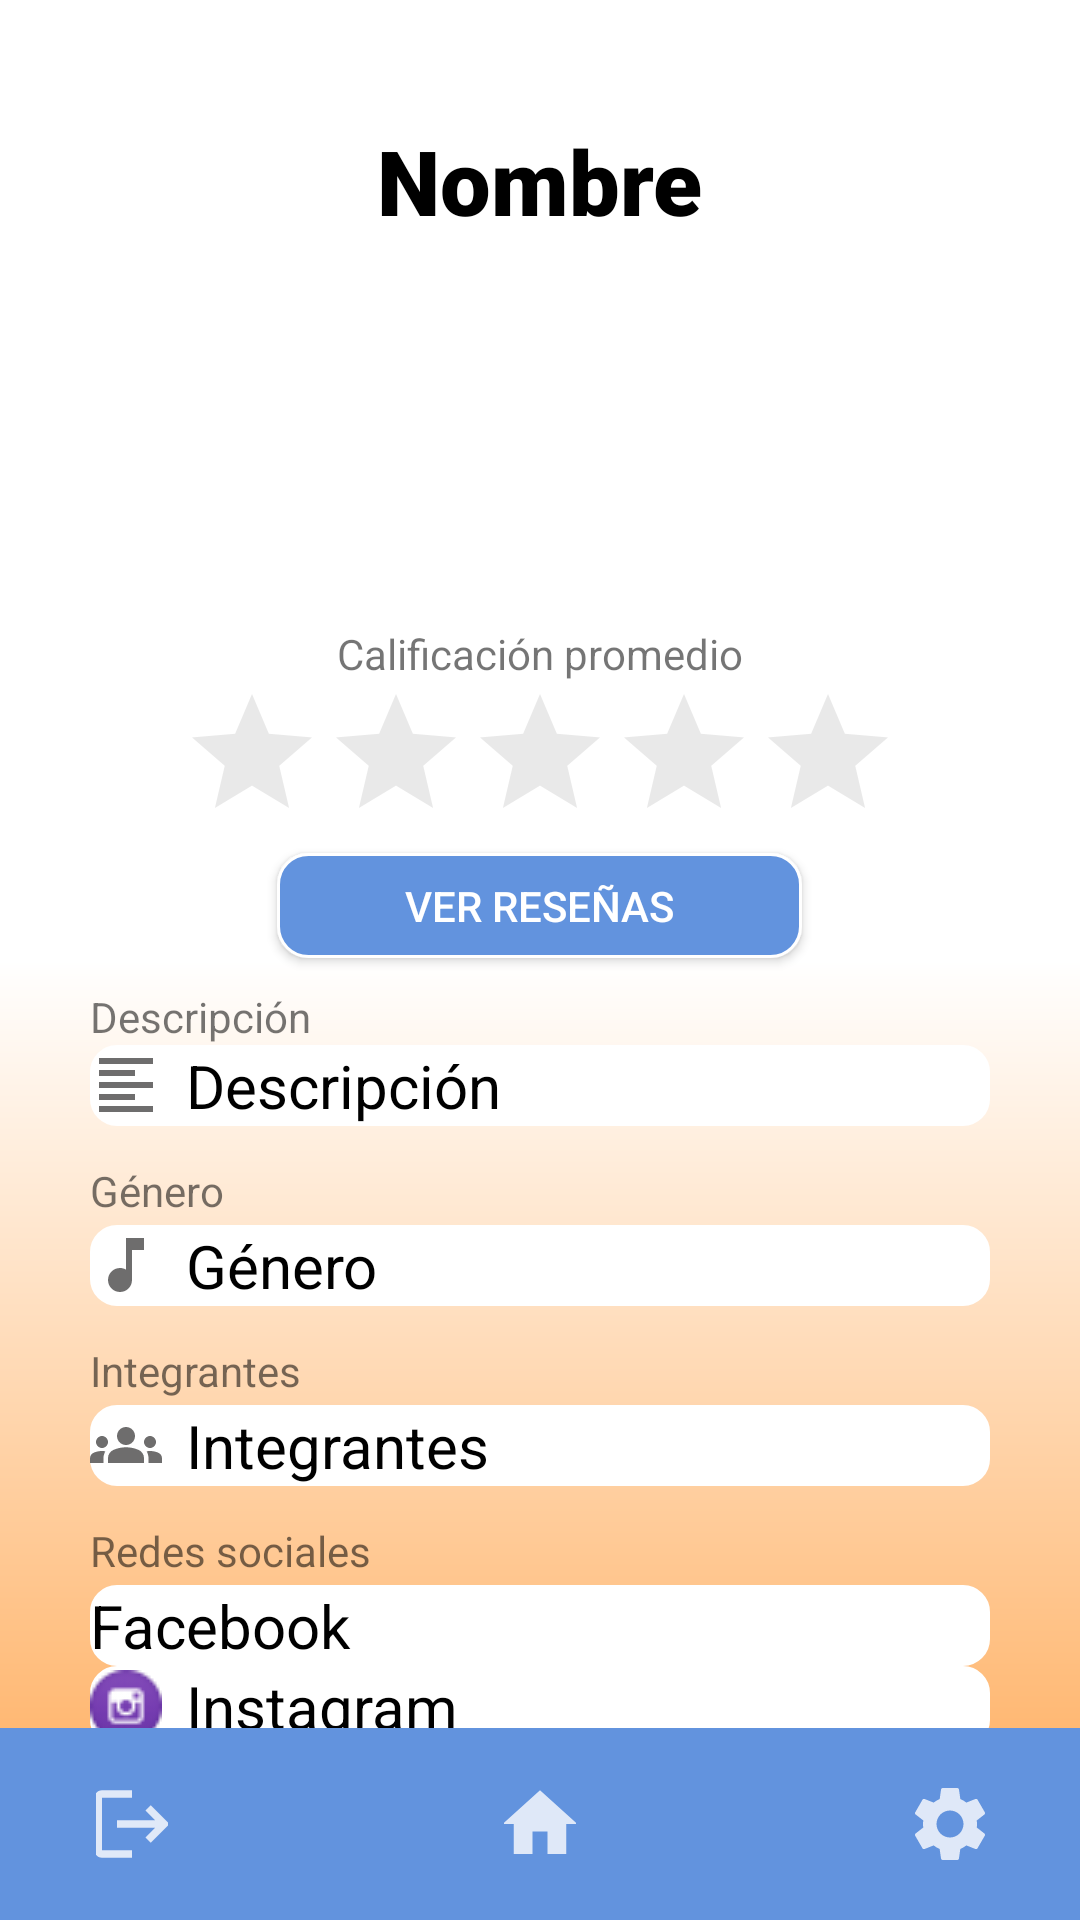

Icons on this 1080px×1920px Android screen, each with its box as (x1, y1, x2, y2):
home: (504, 1790, 576, 1854)
settings: (915, 1788, 985, 1860)
